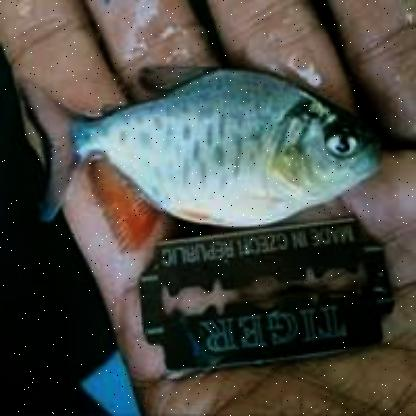ikan-pacu: (41, 62, 379, 224)
